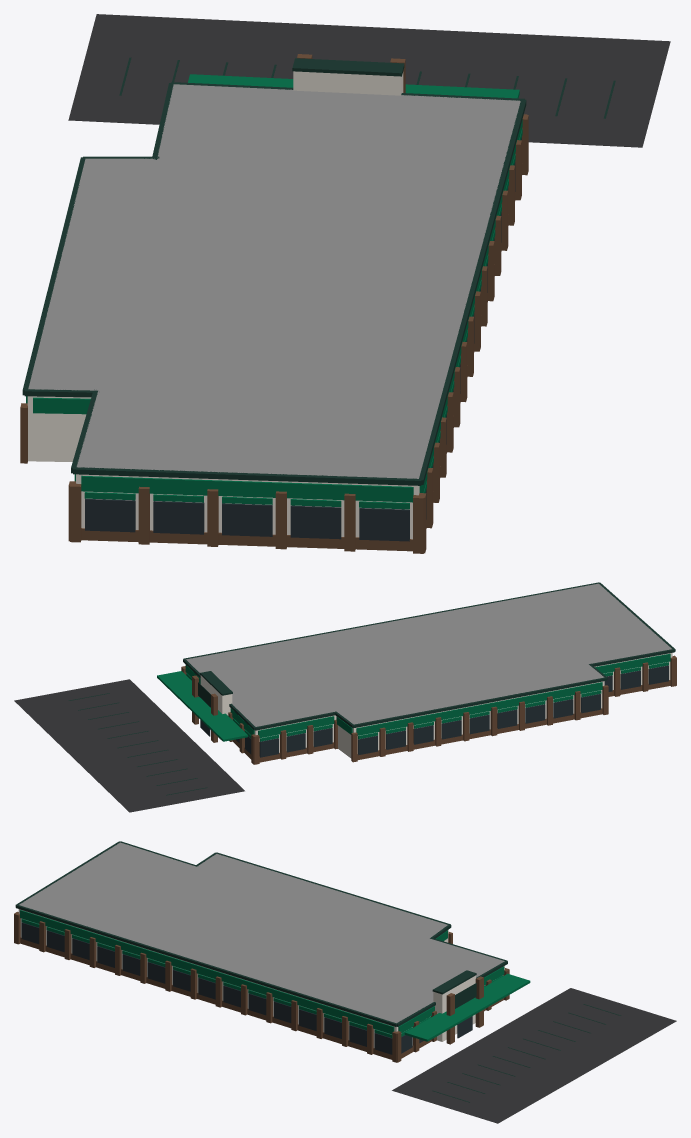
Rendered from starbucks1.glb.
The picture shows the model from 3 angles, top to bottom: view 1: azimuth 30°, elevation 25°; view 2: azimuth 150°, elevation 25°; view 3: azimuth 270°, elevation 25°; orthographic projection. The views are drawn at different scales.
Parts seen in each view (by area): view 1: starbucks1_lod0; view 2: starbucks1_lod0; view 3: starbucks1_lod0.
Boxes of the visible parts, <box> form: starbucks1_lod0: <box>20,14,670,553</box>; starbucks1_lod0: <box>14,582,676,812</box>; starbucks1_lod0: <box>14,841,676,1123</box>.
Size of what is drawn, in the model's own units: 61.64 by 5.8 by 70.32.
